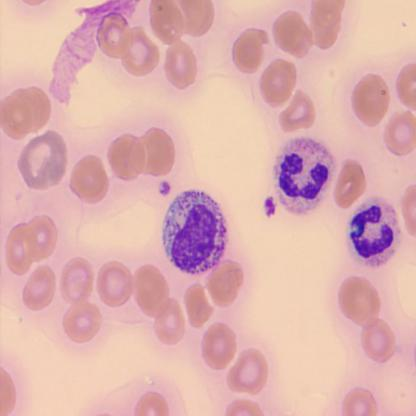Segmented neutrophil: (271, 134, 336, 216), (342, 191, 404, 272)
